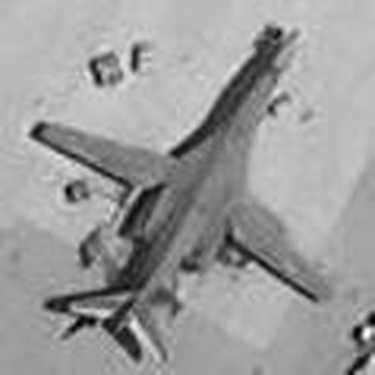airplane: (11, 9, 343, 368)
